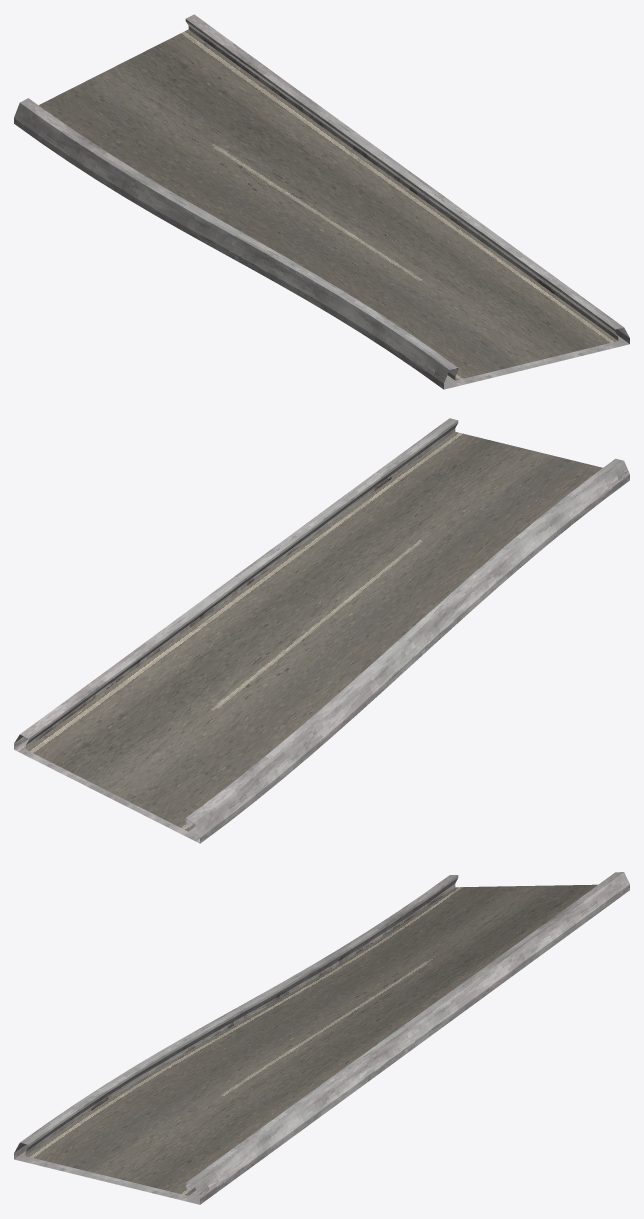
File: straight4.glb
The picture shows the model from 3 angles, top to bottom: view 1: azimuth 30°, elevation 25°; view 2: azimuth 150°, elevation 25°; view 3: azimuth 330°, elevation 25°; orthographic projection.
Visible parts, largest first — view 1: road-Straight-Flat-HalfBankedLeft-Down1-Center-Size4; view 2: road-Straight-Flat-HalfBankedLeft-Down1-Center-Size4; view 3: road-Straight-Flat-HalfBankedLeft-Down1-Center-Size4.
Part boxes in pixels (x1,y1,x2,y2): road-Straight-Flat-HalfBankedLeft-Down1-Center-Size4: (14,14,629,389); road-Straight-Flat-HalfBankedLeft-Down1-Center-Size4: (14,418,629,843); road-Straight-Flat-HalfBankedLeft-Down1-Center-Size4: (14,872,629,1204).
Size of the model in its own units: 1 by 0.3438 by 4.
Materials: 2 (2 with a texture image).
